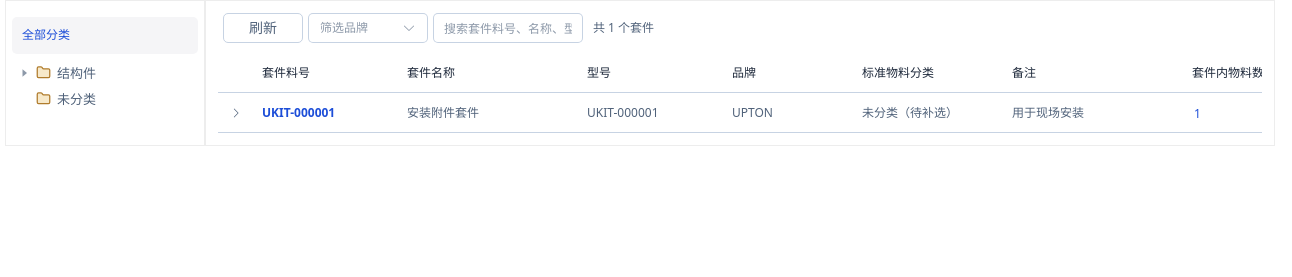
Test case: EngineeringKitLibrary › 只读账号展开已发布版本，不显示草稿物料或维护入口
Click the button with class "kit-code" at x=299, y=112, box [262,101,335,124]
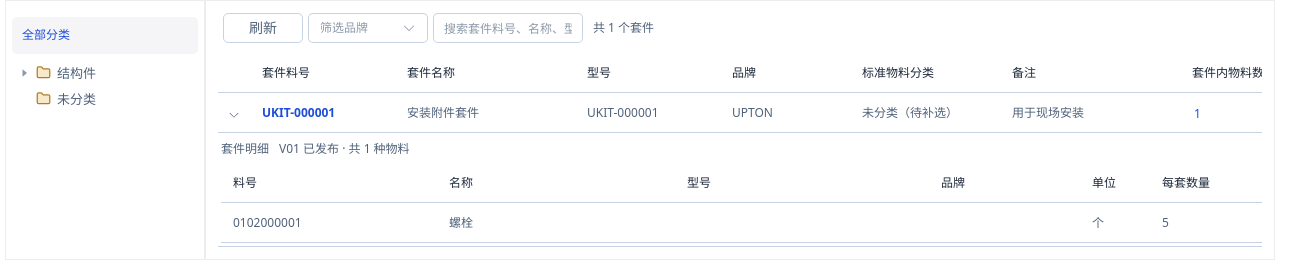
Expected: the element with id "kit-contents-kit-1" shows "V01 已发布", [279,140,410,157]
Expected: the element with id "kit-contents-kit-1" shows "螺栓", [449,214,473,231]
